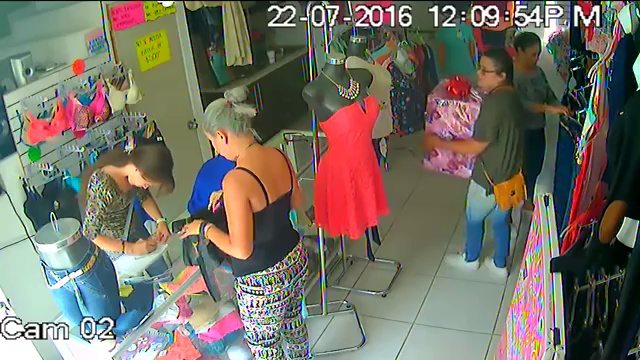face: (475, 55, 498, 91), (126, 165, 157, 190), (522, 41, 542, 70)
